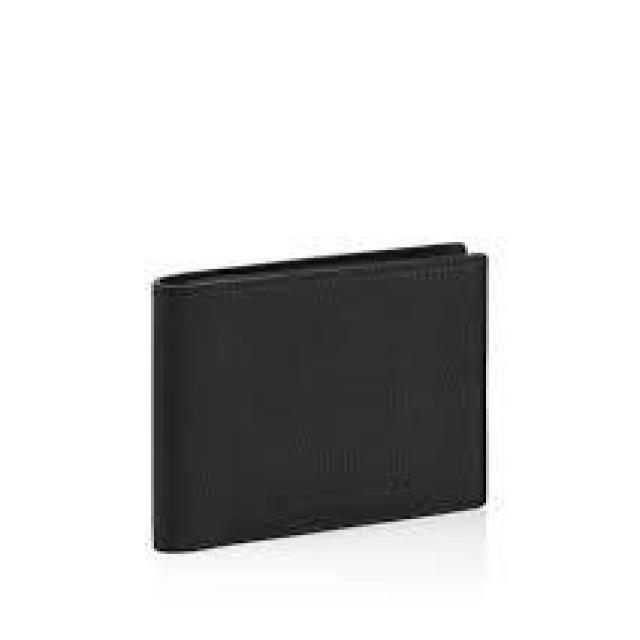cuzdan: (123, 247, 552, 544)
